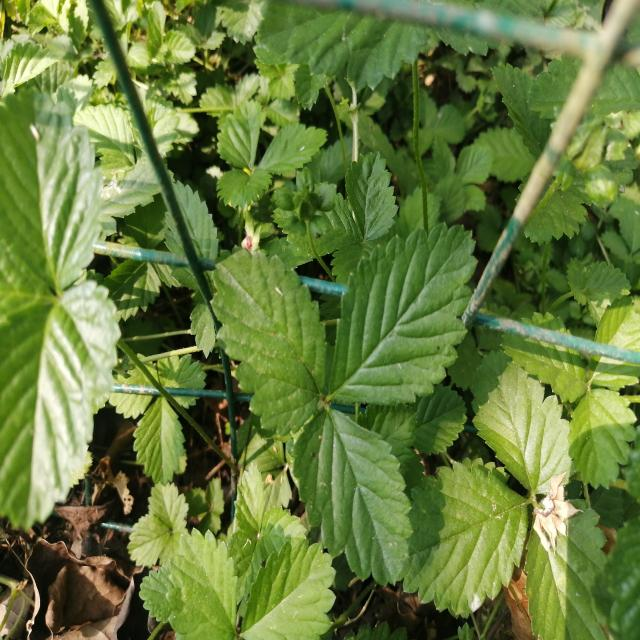Mock_strawberry: (399, 334, 617, 616)
